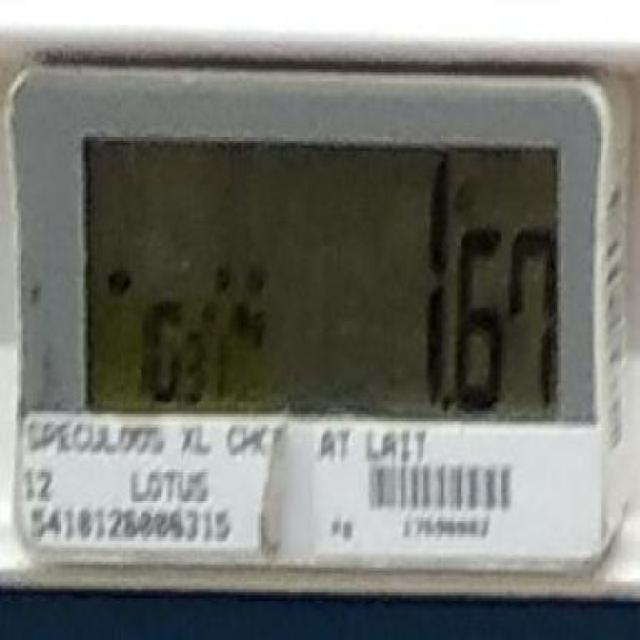display: (85, 136, 558, 424)
frame: (417, 150, 558, 416)
gauge: (0, 68, 640, 580)
